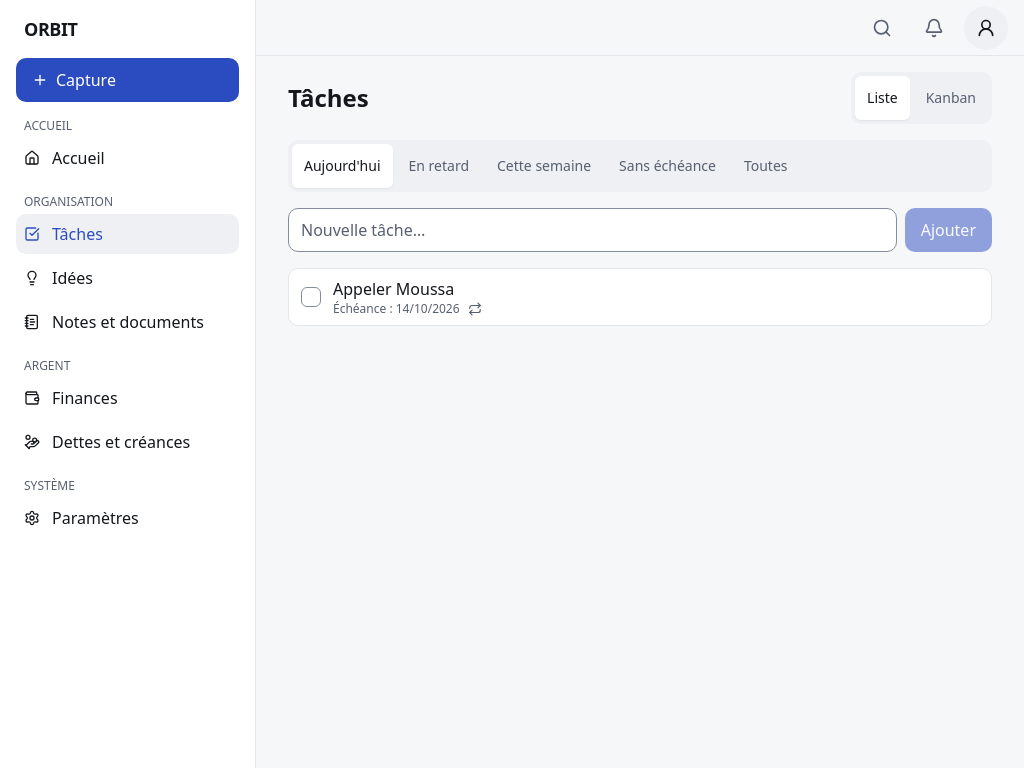
Scenario: organization pages (PHASE-04) › completes a task from the today view and announces the next occurrence
Step 1. Click the checkbox named "Terminer « Appeler Moussa »" → x=311, y=297, box [301,287,321,307]
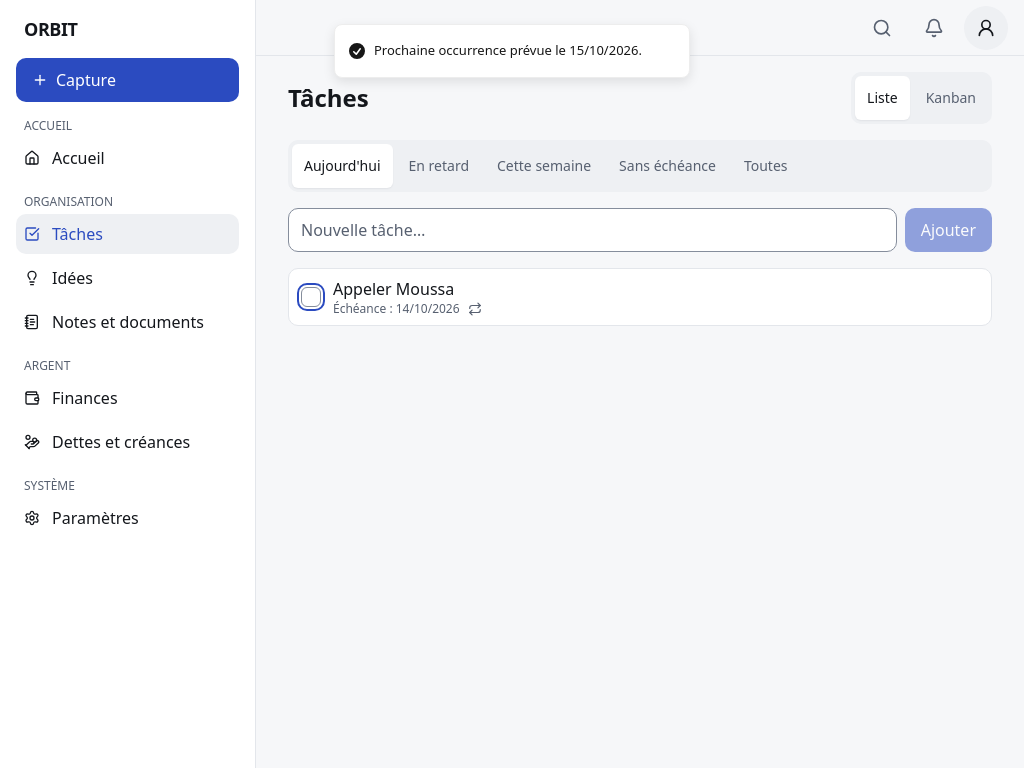
Expected: the text "Prochaine occurrence prévue le 15/10/2026." is shown, [374,41,642,60]
